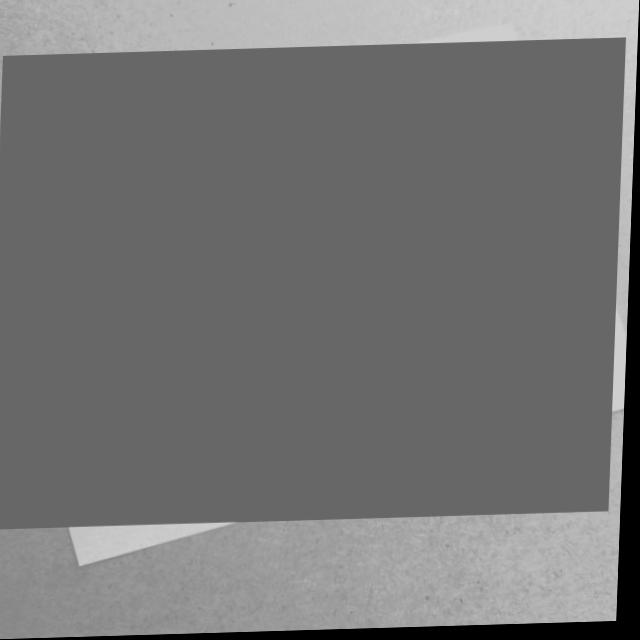qr_code: (0, 41, 626, 530)
